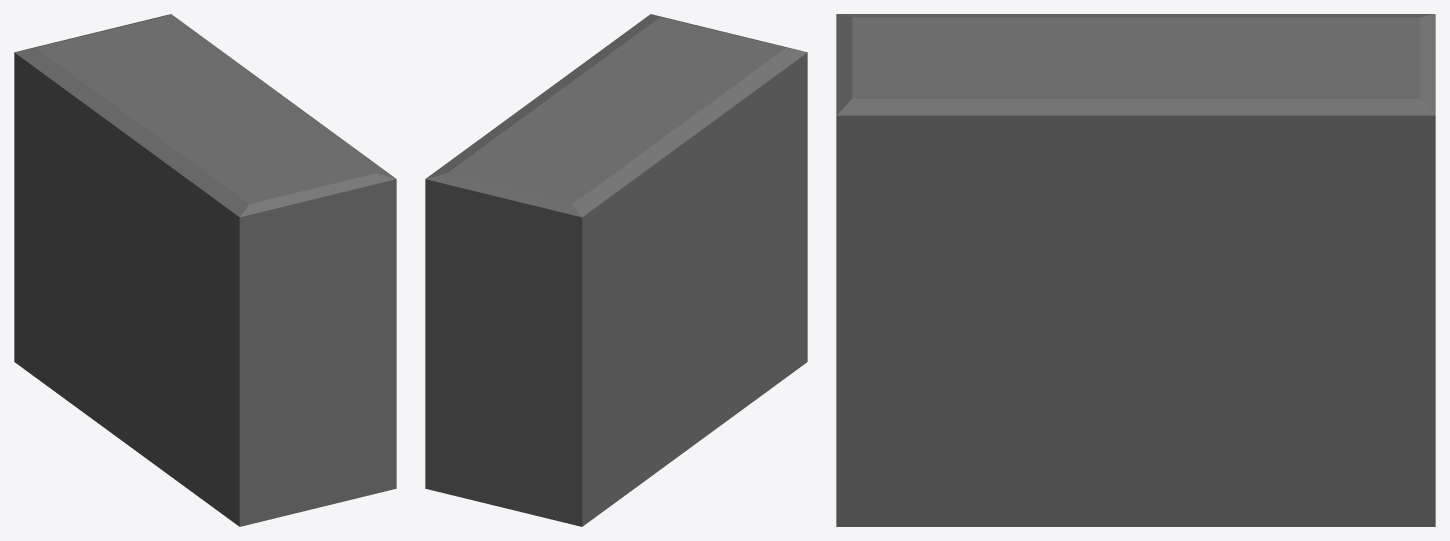
Rendered from Itr_Couch_Outside_Side_03.FBX.
The picture shows the model from 3 angles, left to right: view 1: azimuth 30°, elevation 25°; view 2: azimuth 150°, elevation 25°; view 3: azimuth 270°, elevation 25°; orthographic projection. The views are drawn at different scales.
Parts seen in each view (by area): view 1: Itr_Couch_Outside_Side_03; view 2: Itr_Couch_Outside_Side_03; view 3: Itr_Couch_Outside_Side_03.
Boxes of the visible parts, left/top/right/bottom form: Itr_Couch_Outside_Side_03: left=14, top=14, right=396, bottom=526; Itr_Couch_Outside_Side_03: left=425, top=14, right=807, bottom=526; Itr_Couch_Outside_Side_03: left=836, top=14, right=1435, bottom=526.
Size of the model in its own units: 13.12 by 25.52 by 32.64.
